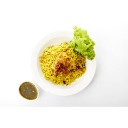briyani: (38, 46, 83, 86)
